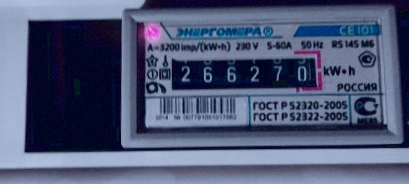0: (295, 63, 306, 83)
2: (178, 63, 192, 84), (248, 64, 260, 84)
6: (201, 64, 213, 85), (225, 64, 237, 83)
7: (271, 63, 283, 82)
screen: (157, 43, 331, 102)
